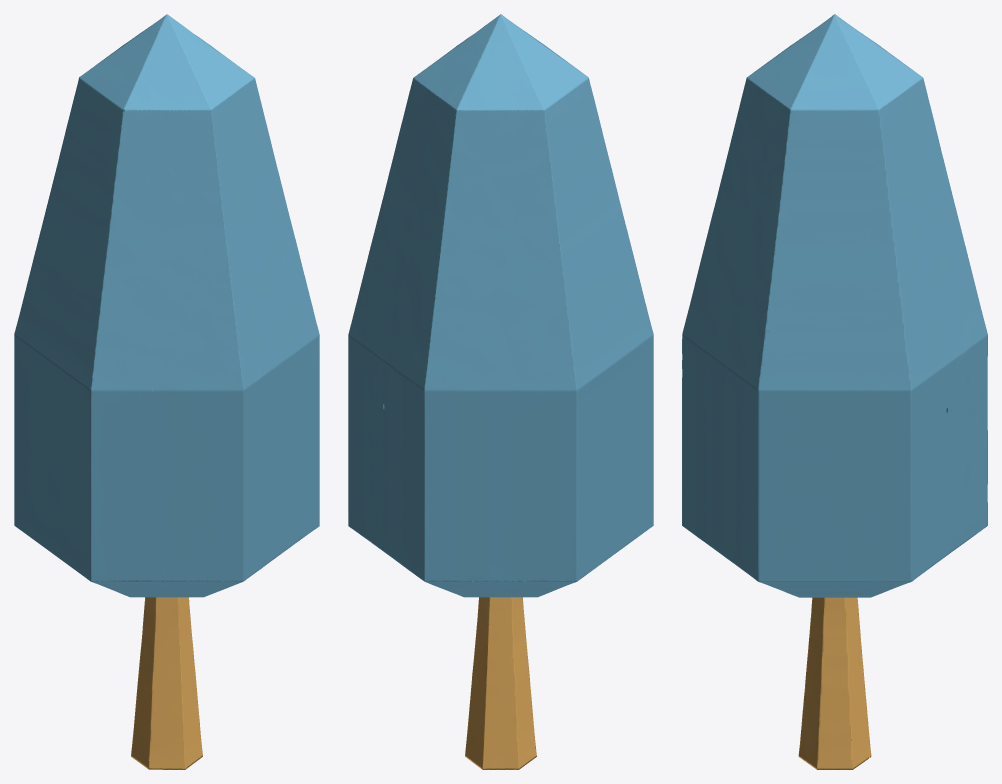
Rendered from tree.glb.
The picture shows the model from 3 angles, left to right: view 1: azimuth 30°, elevation 25°; view 2: azimuth 150°, elevation 25°; view 3: azimuth 270°, elevation 25°; orthographic projection.
Visible parts, largest first — view 1: Part 01, Part 02; view 2: Part 01, Part 02; view 3: Part 01, Part 02.
Part boxes in pixels (<box>): Part 01: <box>14,14,319,597</box>; Part 02: <box>131,597,202,769</box>; Part 01: <box>348,14,653,597</box>; Part 02: <box>465,597,536,769</box>; Part 01: <box>682,14,987,597</box>; Part 02: <box>798,597,871,769</box>.
Size of the model in its own units: 0.3221 by 0.9989 by 0.3728.
